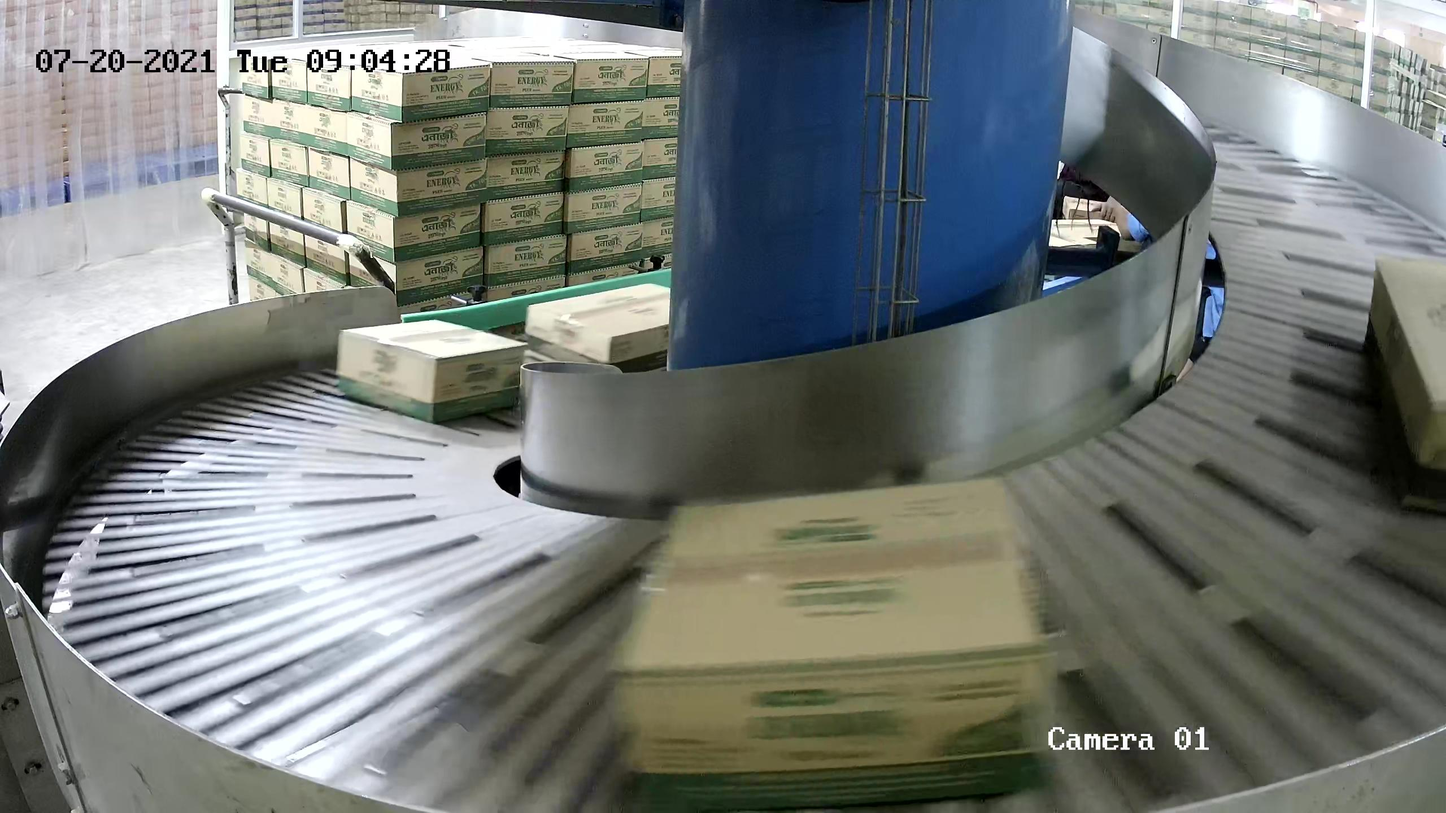Box: (603, 473, 1064, 813), (1360, 255, 1446, 512), (335, 318, 529, 424), (524, 282, 671, 372)
